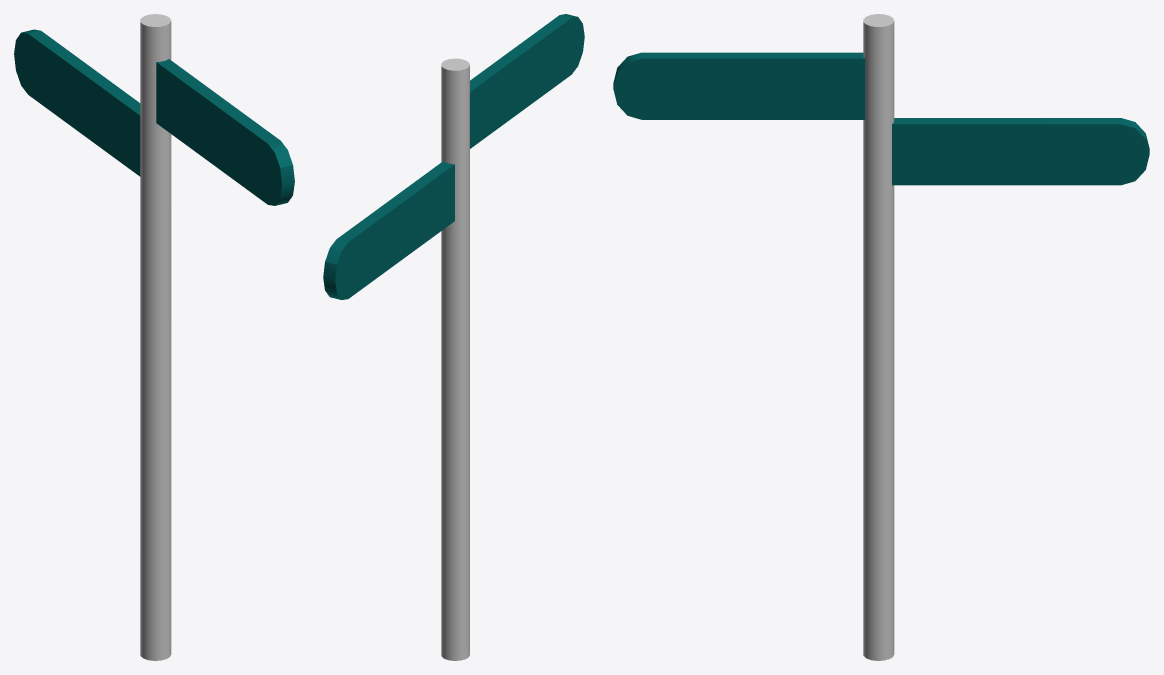
Rendered from RoadSign_03.fbx.
3 renders of one model, left to right at view 1: azimuth 30°, elevation 25°; view 2: azimuth 150°, elevation 25°; view 3: azimuth 270°, elevation 25°, orthographic. The views are drawn at different scales.
Visible parts, largest first — view 1: pCube159; view 2: pCube159; view 3: pCube159.
Boxes of the visible parts, x1=… form: pCube159: x1=14, y1=14, x2=294, y2=660; pCube159: x1=323, y1=14, x2=584, y2=660; pCube159: x1=613, y1=14, x2=1149, y2=660.
Size of the model in its own units: 0.097 by 2.19 by 1.68.
